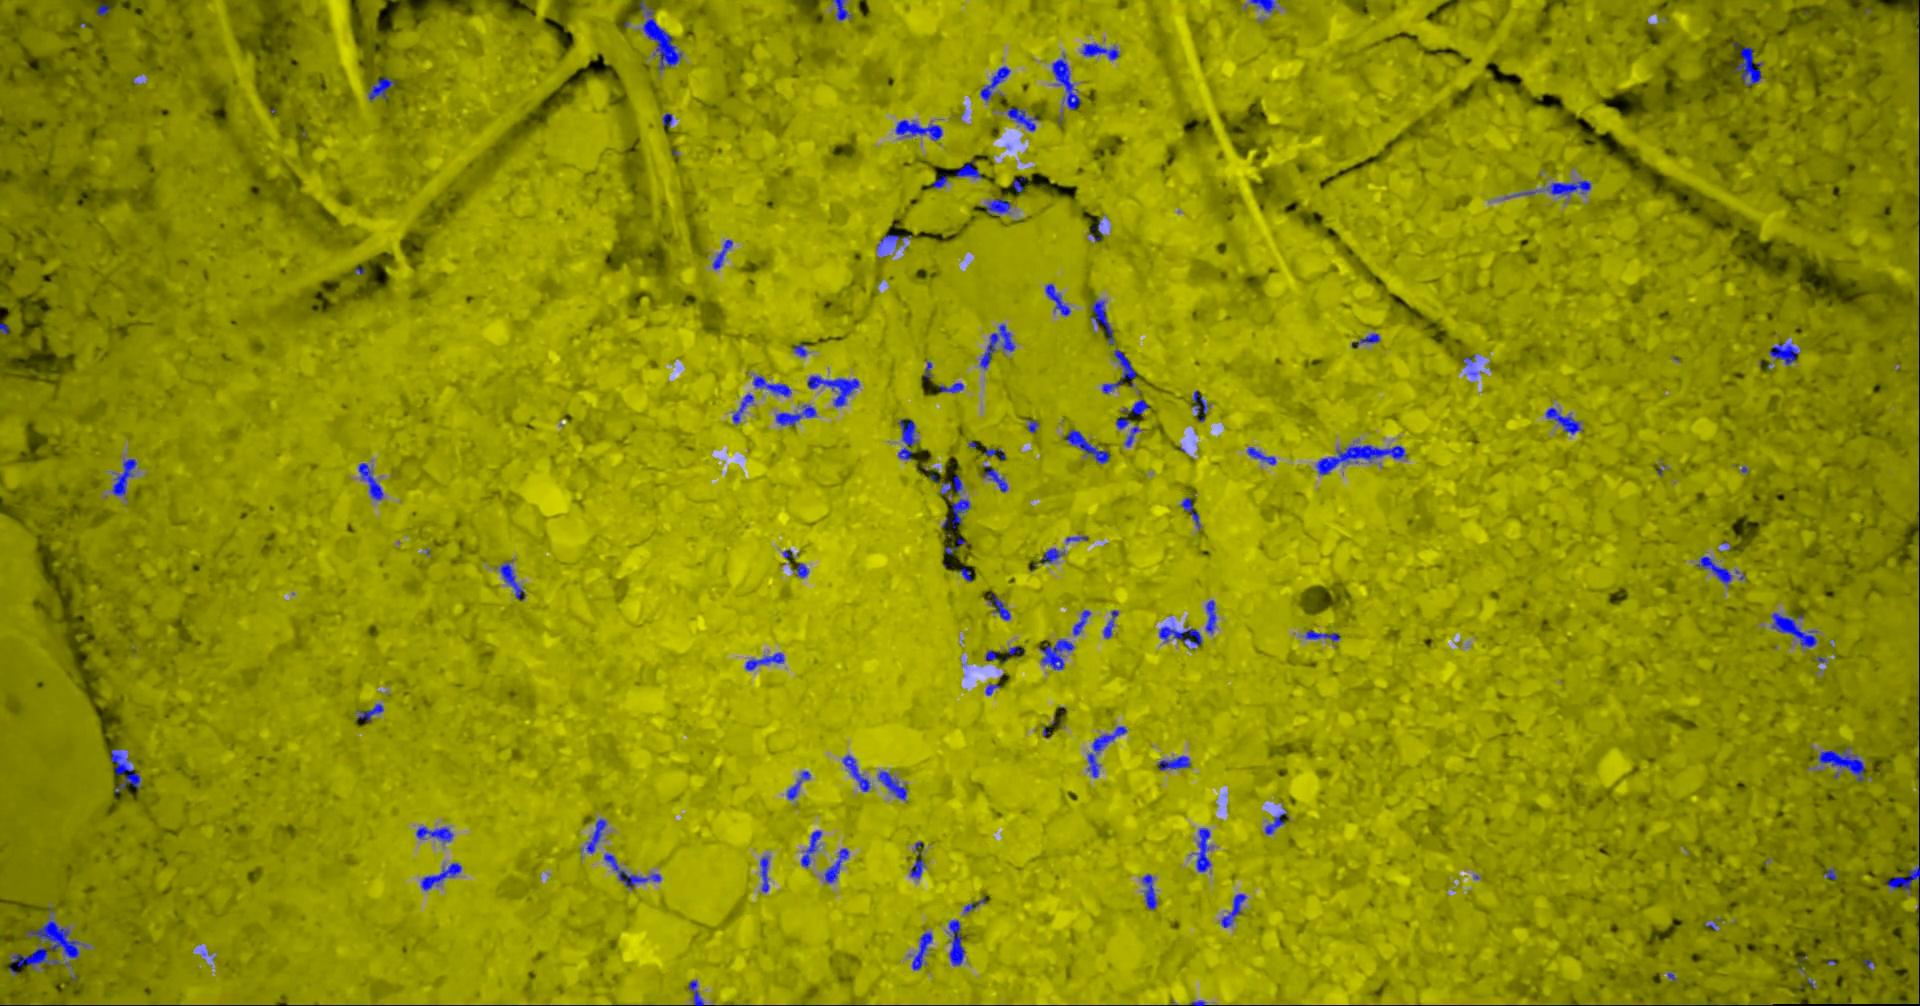ant: (639, 0, 681, 69), (1316, 445, 1406, 474), (1087, 725, 1126, 777), (603, 854, 662, 888), (979, 323, 1015, 368), (808, 375, 858, 406), (1101, 348, 1137, 392), (1817, 749, 1865, 781), (1051, 55, 1079, 109), (1771, 612, 1816, 647), (1065, 429, 1109, 464), (110, 748, 140, 793), (1733, 46, 1761, 86), (420, 862, 461, 890), (1090, 298, 1114, 344), (1039, 638, 1073, 669), (979, 66, 1010, 102), (1545, 406, 1582, 434), (842, 754, 870, 791), (1115, 399, 1148, 429), (1695, 556, 1731, 584), (1158, 625, 1201, 648), (499, 561, 524, 600), (110, 459, 136, 495), (895, 119, 941, 140), (358, 462, 382, 500), (775, 404, 817, 426), (1883, 865, 1919, 890), (752, 373, 791, 396), (941, 498, 970, 528), (877, 770, 907, 800), (824, 847, 848, 882), (1222, 893, 1246, 927), (897, 418, 917, 459), (800, 829, 822, 868), (910, 931, 932, 969), (1045, 283, 1070, 315), (1006, 107, 1037, 131), (585, 818, 606, 854), (786, 770, 810, 799), (744, 652, 783, 669), (949, 920, 964, 965), (1545, 180, 1590, 196), (1195, 827, 1210, 871), (1769, 342, 1798, 365), (987, 591, 1010, 620), (731, 392, 753, 423), (1180, 497, 1200, 528), (983, 465, 1007, 492), (367, 77, 395, 100), (712, 239, 731, 269), (940, 474, 963, 499), (1081, 43, 1117, 58), (415, 826, 452, 841), (909, 841, 924, 878), (1142, 873, 1156, 909), (955, 159, 982, 178), (357, 702, 383, 721), (1247, 446, 1275, 464), (1263, 812, 1285, 835), (1156, 754, 1190, 768), (1072, 608, 1090, 635), (1192, 390, 1208, 420), (984, 196, 1010, 213), (1102, 610, 1117, 638), (877, 234, 910, 246), (830, 0, 851, 20), (943, 537, 968, 554), (1304, 630, 1338, 641), (1039, 547, 1064, 563), (688, 979, 703, 1005), (963, 895, 985, 912), (1124, 426, 1142, 446), (1351, 333, 1379, 345), (1205, 600, 1215, 633), (759, 855, 768, 892), (1248, 0, 1275, 11), (938, 382, 963, 392), (931, 174, 947, 187), (984, 448, 1004, 459), (1006, 645, 1023, 657), (1012, 177, 1025, 192), (792, 343, 808, 356), (795, 561, 808, 577), (97, 3, 110, 15), (985, 649, 999, 661), (1026, 419, 1037, 432), (662, 112, 672, 126)
